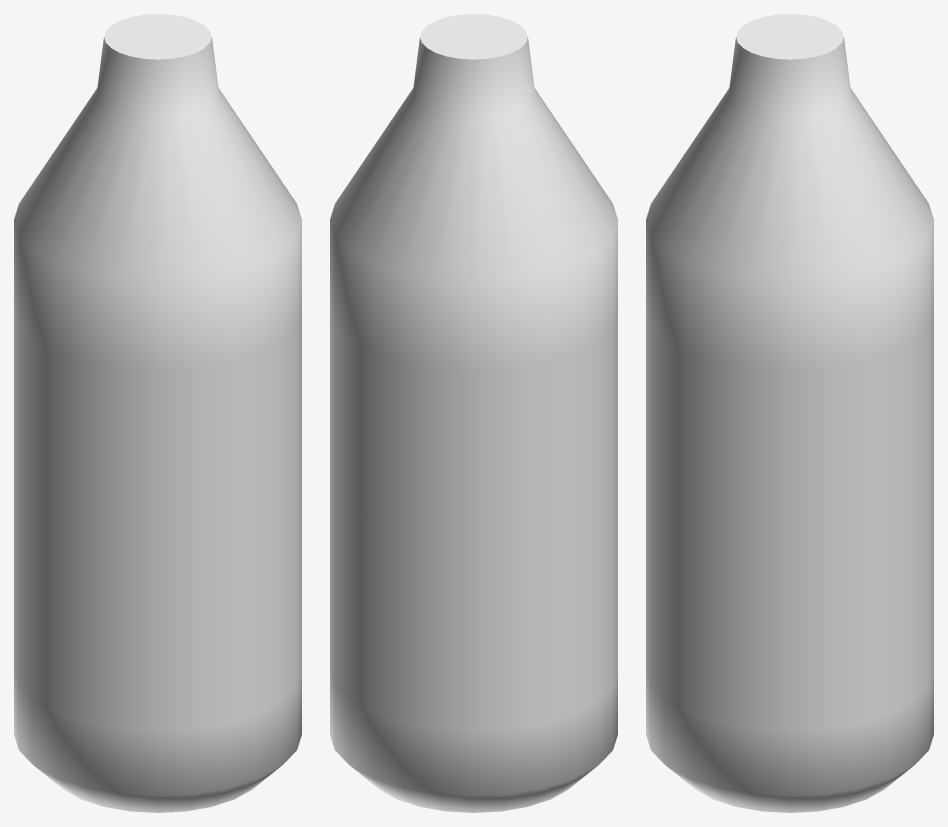
File: bottle.glb
3 renders of one model, left to right at view 1: azimuth 30°, elevation 25°; view 2: azimuth 150°, elevation 25°; view 3: azimuth 270°, elevation 25°, orthographic.
Parts seen in each view (by area): view 1: Bottle; view 2: Bottle; view 3: Bottle.
Boxes of the visible parts, x1,y1,x2,y2 form: Bottle: [14, 14, 301, 812]; Bottle: [330, 14, 617, 812]; Bottle: [646, 14, 933, 812].
Bounding box in the file's own units: 0.08 × 0.224 × 0.08.
Materials: 1 (1 with a texture image).
